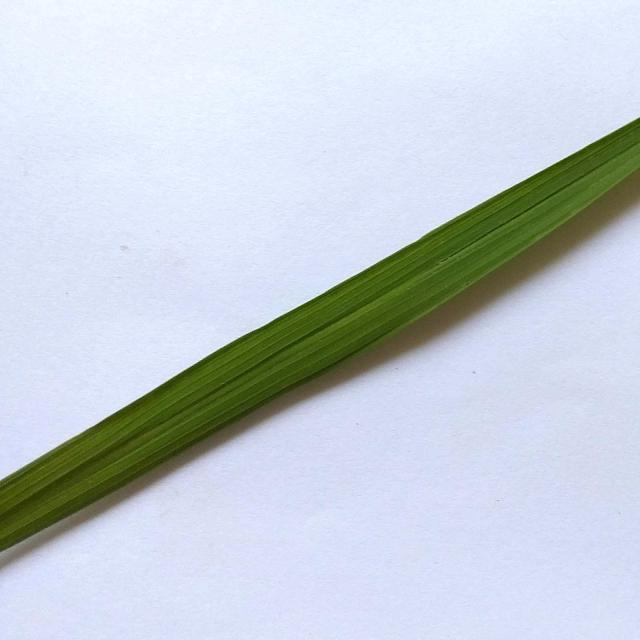healthy: (0, 114, 640, 565)
